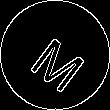M_NE: (21, 21, 89, 89)
